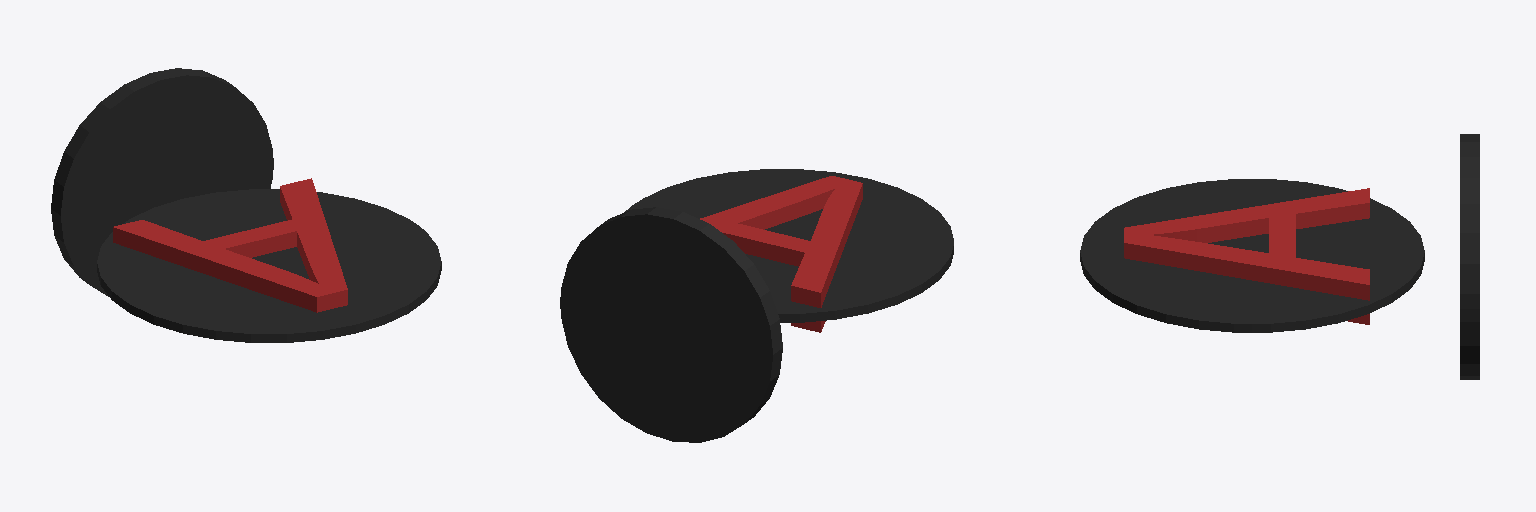
3 renders of one model, left to right at view 1: azimuth 30°, elevation 25°; view 2: azimuth 150°, elevation 25°; view 3: azimuth 270°, elevation 25°, orthographic.
Parts seen in each view (by area): view 1: ART_GS[number redacted]_A; view 2: ART_GS[number redacted]_A; view 3: ART_GS[number redacted]_A.
Boxes of the visible parts, x1,y1,x2,y2 form: ART_GS[number redacted]_A: [51, 68, 441, 342]; ART_GS[number redacted]_A: [560, 169, 953, 442]; ART_GS[number redacted]_A: [1080, 134, 1479, 379].
Size of the model in its own units: 0.349 by 0.2495 by 0.4059.